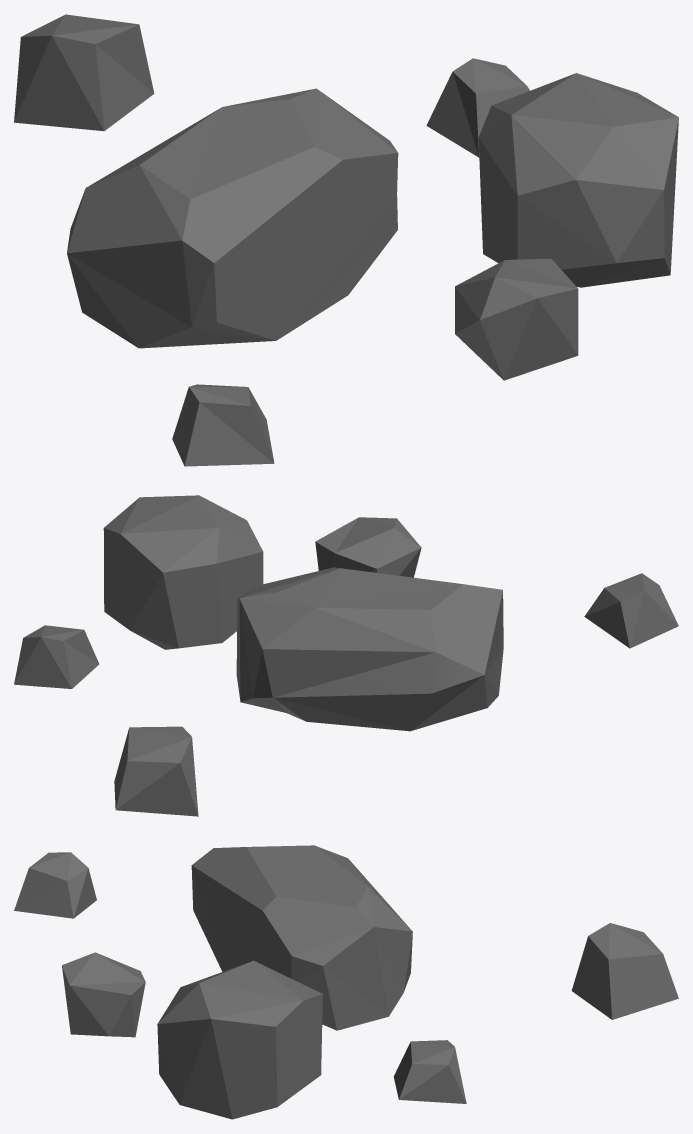
The model's file is SM_Gen_Env_Rock_Pebbles_03.glb.
3 renders of one model, top to bottom at view 1: azimuth 30°, elevation 25°; view 2: azimuth 150°, elevation 25°; view 3: azimuth 270°, elevation 25°, orthographic. The views are drawn at different scales.
Visible parts, largest first — view 1: SM_Gen_Env_Rock_Pebbles_03; view 2: SM_Gen_Env_Rock_Pebbles_03; view 3: SM_Gen_Env_Rock_Pebbles_03.
Boxes of the visible parts, x1=… form: SM_Gen_Env_Rock_Pebbles_03: x1=14, y1=14, x2=678, y2=466; SM_Gen_Env_Rock_Pebbles_03: x1=14, y1=495, x2=678, y2=816; SM_Gen_Env_Rock_Pebbles_03: x1=14, y1=845, x2=678, y2=1119.
Size of the model in its own units: 0.7664 by 0.2031 by 0.9919.
1 material, 1 textured.
